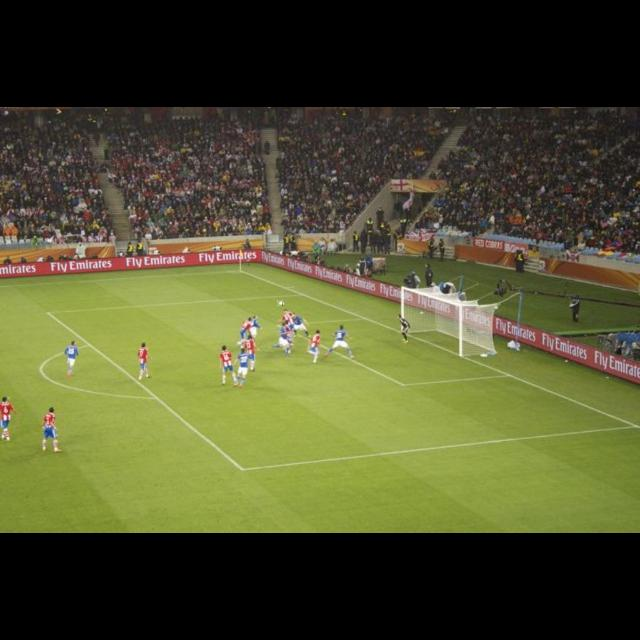Football: (277, 300, 283, 306)
